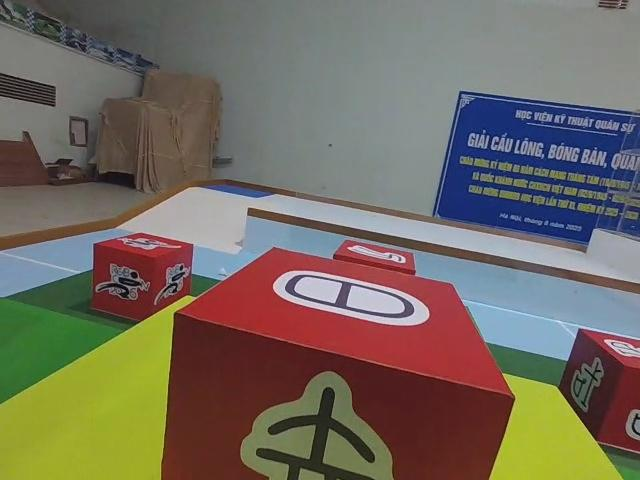R1: (89, 230, 194, 319)
R2 Fake: (158, 243, 517, 480)
R2 Real: (554, 325, 640, 458)
